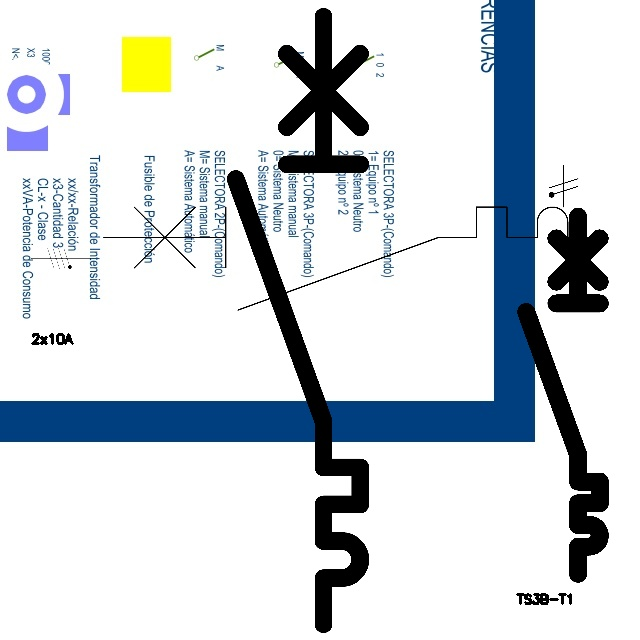interruptor_termomagnetico: (220, 1, 376, 640), (90, 194, 618, 323), (517, 207, 609, 583)
